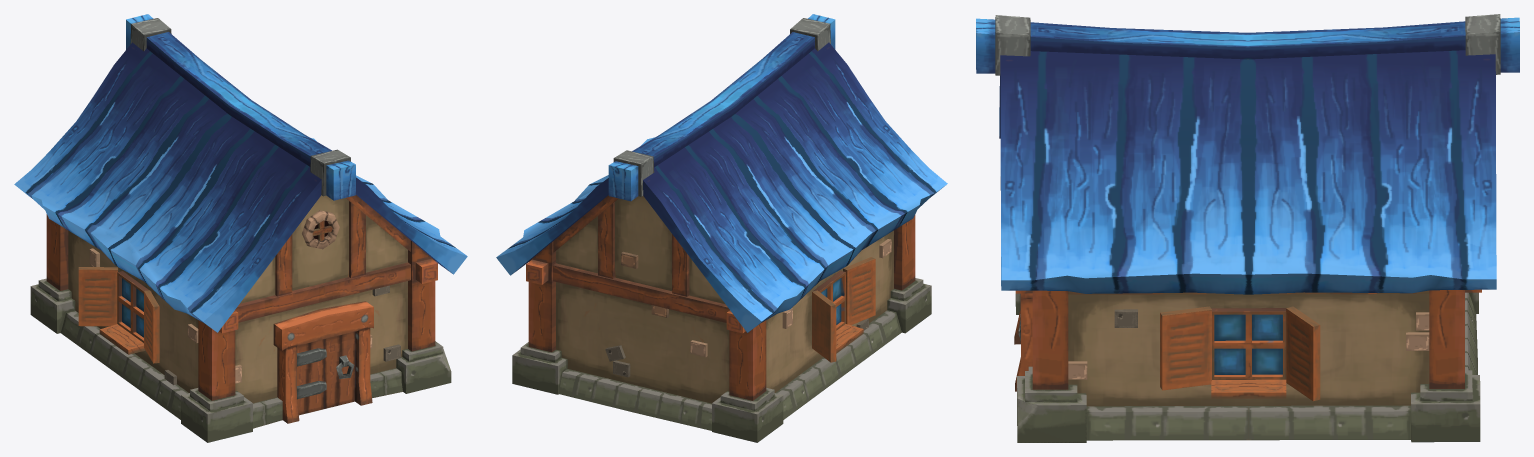
The model's file is cartoon_house.glb.
The picture shows the model from 3 angles, left to right: view 1: azimuth 30°, elevation 25°; view 2: azimuth 150°, elevation 25°; view 3: azimuth 270°, elevation 25°; orthographic projection. The views are drawn at different scales.
Visible parts, largest first — view 1: Object_5; view 2: Object_5; view 3: Object_5.
Part boxes in pixels (box(x1,y1,x2,y2)): Object_5: box(14, 14, 467, 442); Object_5: box(496, 14, 947, 442); Object_5: box(976, 14, 1519, 442).
Bounding box in the file's own units: 3.61 × 3.23 × 4.67.
Materials: 1 (1 with a texture image).
